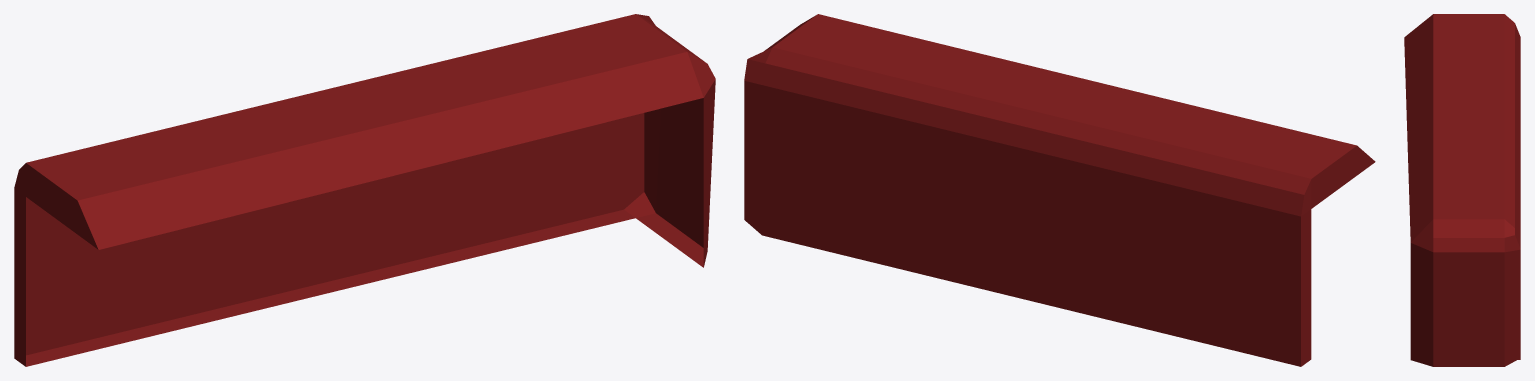
Rendered from deken_slordig.fbx.
3 views of the same model, side by side, from view 1: azimuth 30°, elevation 25°; view 2: azimuth 150°, elevation 25°; view 3: azimuth 270°, elevation 25° (orthographic). The views are drawn at different scales.
Visible parts, largest first — view 1: deken_slordig; view 2: deken_slordig; view 3: deken_slordig.
Part boxes in pixels (x1,y1,x2,y2): deken_slordig: (14,14,715,366); deken_slordig: (744,14,1375,366); deken_slordig: (1404,14,1520,366).
Bounding box in the file's own units: 1.57 × 0.48 × 0.36.
